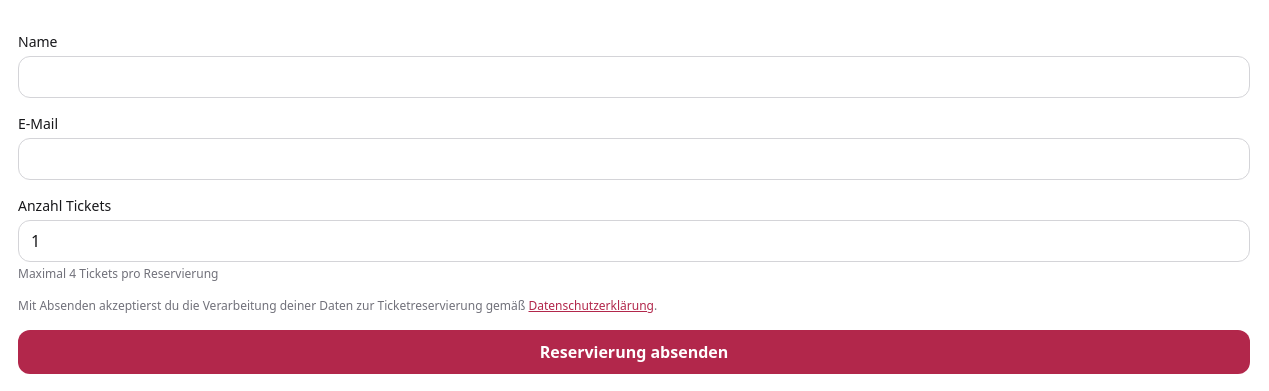
it: ReservationForm › success state › should show success message after successful submission
Type "Max Mustermann" into the field labelled "Name" at (634,77), box [18,56,1250,98]
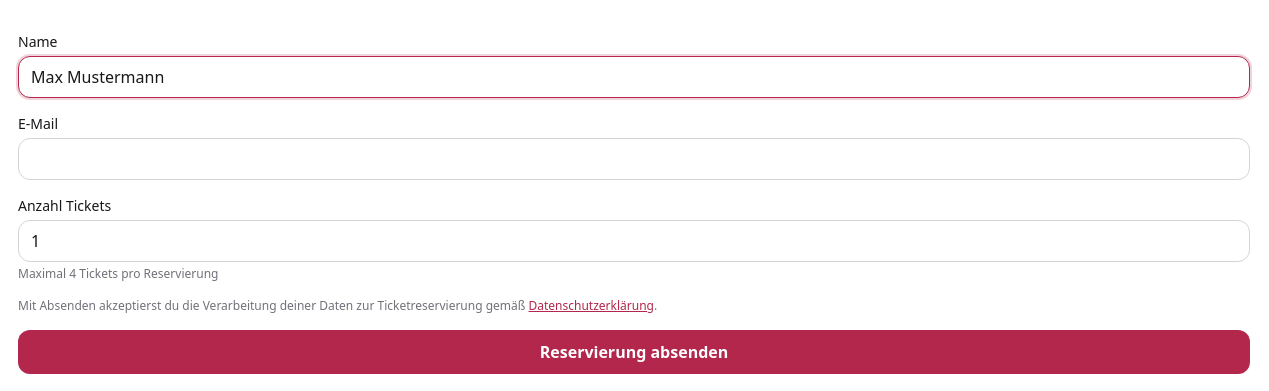
Type "max@example.com" into the field labelled "E-Mail" at (634,159), box [18,138,1250,180]
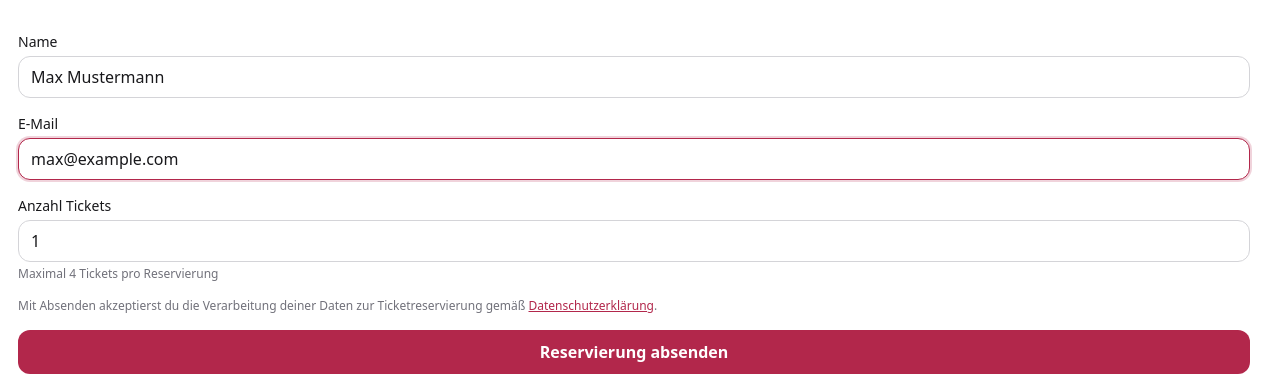
Click the button "Reservierung absenden" at (634,352), box [18,330,1250,374]
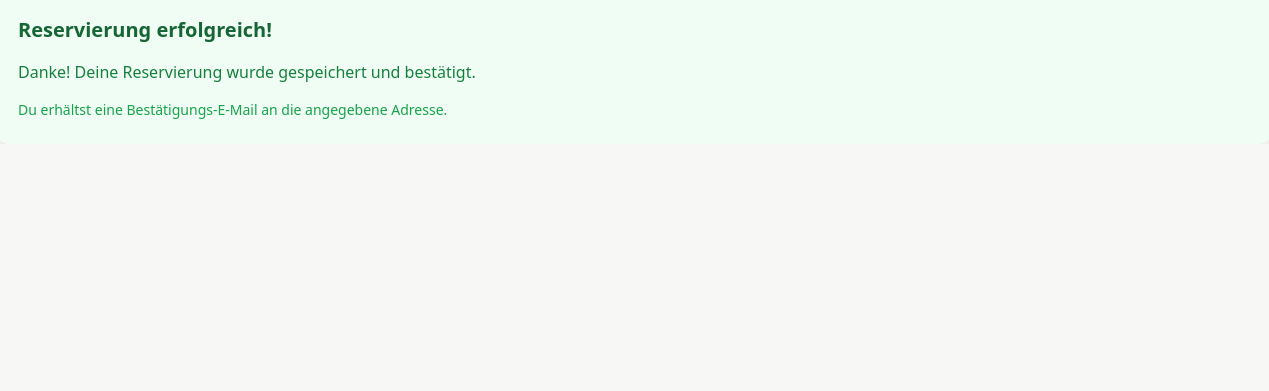
Check: the heading "Reservierung erfolgreich!" is shown, box [18,16,272,43]
Check: the text "Danke! Deine Reservierung wurde gespeichert und bestätigt." is shown, box [18,61,476,83]
Check: the text "Du erhältst eine Bestätigungs-E-Mail" is shown, box [18,100,447,119]
